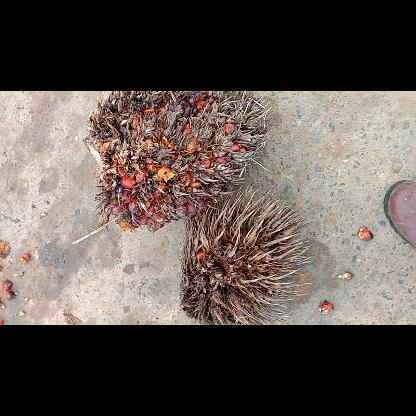Janjang kosong: (178, 186, 314, 324)
Terlalu masak: (73, 91, 271, 242)
